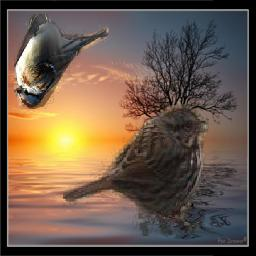Sparrow: (63, 102, 209, 237), (15, 15, 110, 110)
